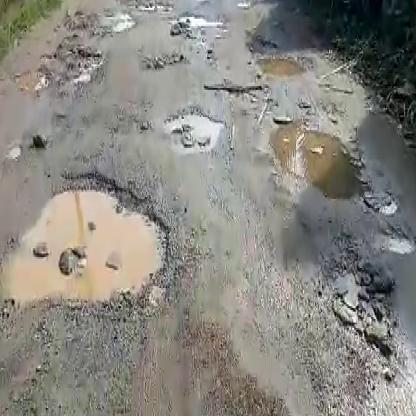pothole: (14, 191, 175, 314), (270, 120, 370, 206), (327, 267, 401, 371), (16, 36, 107, 97), (166, 107, 224, 155), (253, 54, 309, 81), (201, 81, 272, 100), (168, 15, 229, 36)
